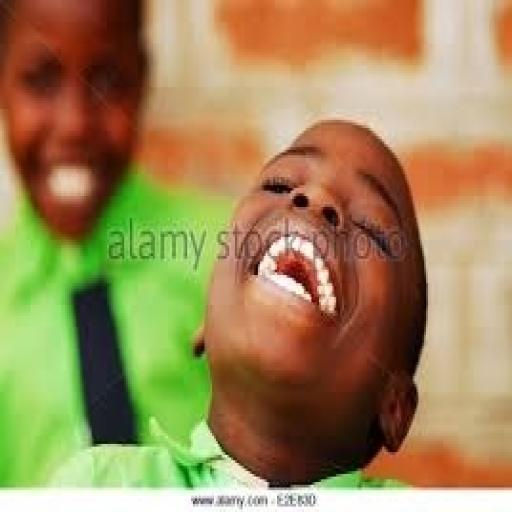laughing: (187, 109, 434, 477)
